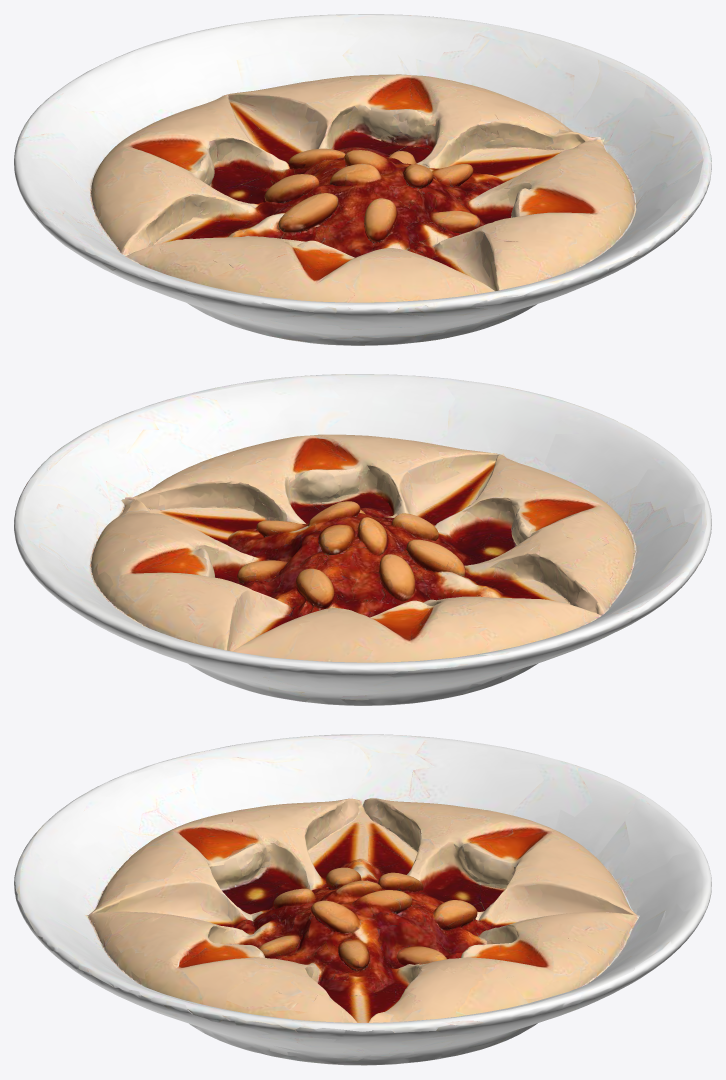
Rendered from spicy-hommos.glb.
3 renders of one model, top to bottom at view 1: azimuth 30°, elevation 25°; view 2: azimuth 150°, elevation 25°; view 3: azimuth 270°, elevation 25°, orthographic.
Size of the model in its own units: 1.9 by 0.3036 by 1.9.
1 material, 1 textured.
